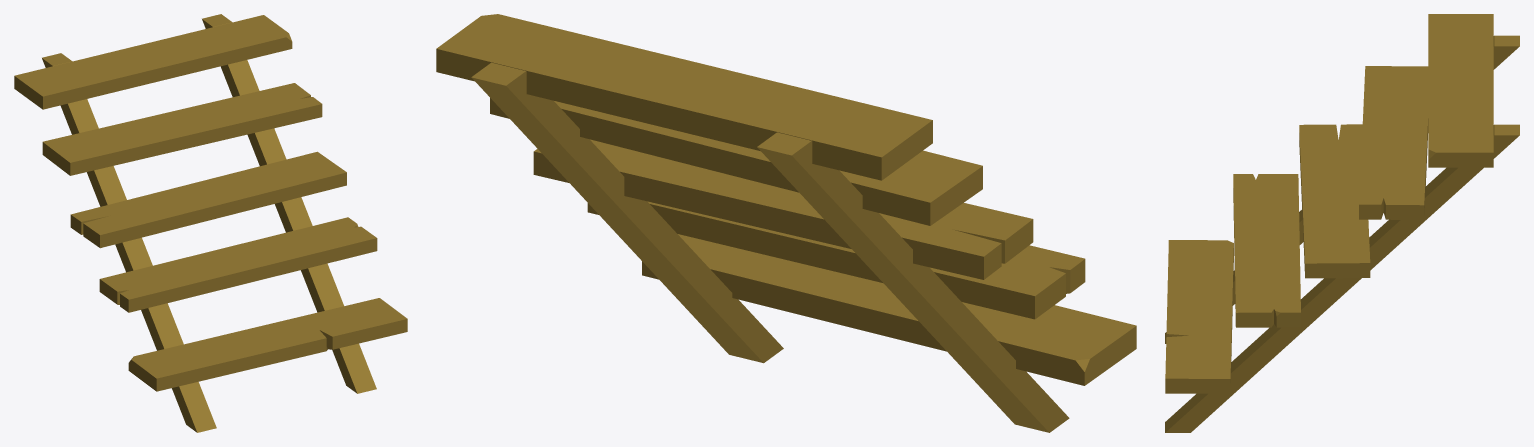
Rendered from stairs_wood.glb.
3 renders of one model, left to right at view 1: azimuth 30°, elevation 25°; view 2: azimuth 150°, elevation 25°; view 3: azimuth 270°, elevation 25°, orthographic. The views are drawn at different scales.
Visible parts, largest first — view 1: stairs_wood; view 2: stairs_wood; view 3: stairs_wood.
Boxes of the visible parts, x1=… form: stairs_wood: x1=14, y1=14, x2=407, y2=432; stairs_wood: x1=436, y1=14, x2=1136, y2=432; stairs_wood: x1=1165, y1=14, x2=1519, y2=432.
Size of the model in its own units: 1 by 1 by 1.08.
